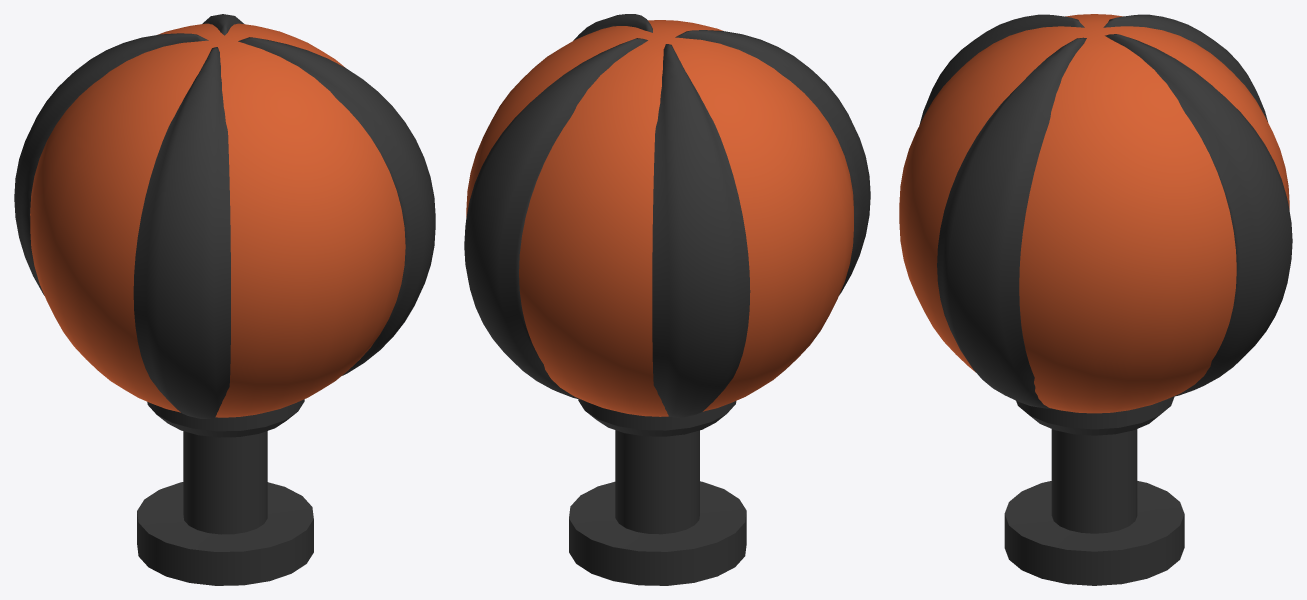
The model's file is SM_Wall_Light_01.FBX.
The picture shows the model from 3 angles, left to right: view 1: azimuth 30°, elevation 25°; view 2: azimuth 150°, elevation 25°; view 3: azimuth 270°, elevation 25°; orthographic projection.
Parts seen in each view (by area): view 1: SM_Wall_Light_01; view 2: SM_Wall_Light_01; view 3: SM_Wall_Light_01.
Part boxes in pixels (x1,y1,x2,y2): SM_Wall_Light_01: [14, 14, 435, 585]; SM_Wall_Light_01: [464, 14, 870, 585]; SM_Wall_Light_01: [899, 14, 1292, 585].
Size of the model in its own units: 25.96 by 26.01 by 37.88.
